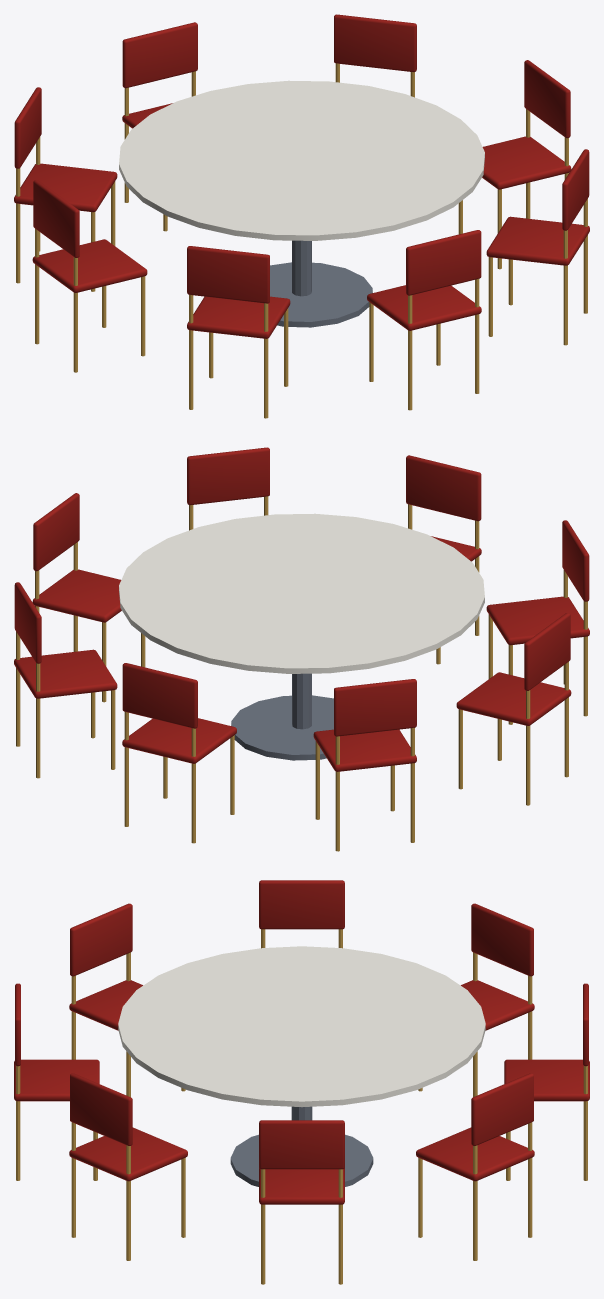
The model's file is hospitality.dining.round_table.glb.
3 views of the same model, one above another, from view 1: azimuth 30°, elevation 25°; view 2: azimuth 150°, elevation 25°; view 3: azimuth 270°, elevation 25° (orthographic).
Parts seen in each view (by area): view 1: table__fabric_white, chairs__fabric_red, chairs__brass, table__steel_painted; view 2: table__fabric_white, chairs__fabric_red, chairs__brass, table__steel_painted; view 3: table__fabric_white, chairs__fabric_red, chairs__brass, table__steel_painted.
Part boxes in pixels (x1,y1,x2,y2): table__fabric_white: (119, 80, 484, 240); chairs__fabric_red: (14, 14, 589, 338); chairs__brass: (16, 63, 587, 418); table__steel_painted: (270, 240, 372, 327); table__fabric_white: (119, 513, 484, 673); chairs__fabric_red: (14, 447, 589, 771); chairs__brass: (16, 496, 587, 851); table__steel_painted: (231, 673, 333, 760); table__fabric_white: (118, 946, 485, 1107); chairs__fabric_red: (14, 880, 589, 1204); chairs__brass: (16, 929, 587, 1284); table__steel_painted: (230, 1106, 373, 1186).
Size of the model in its own units: 2.82 by 0.88 by 2.82.
